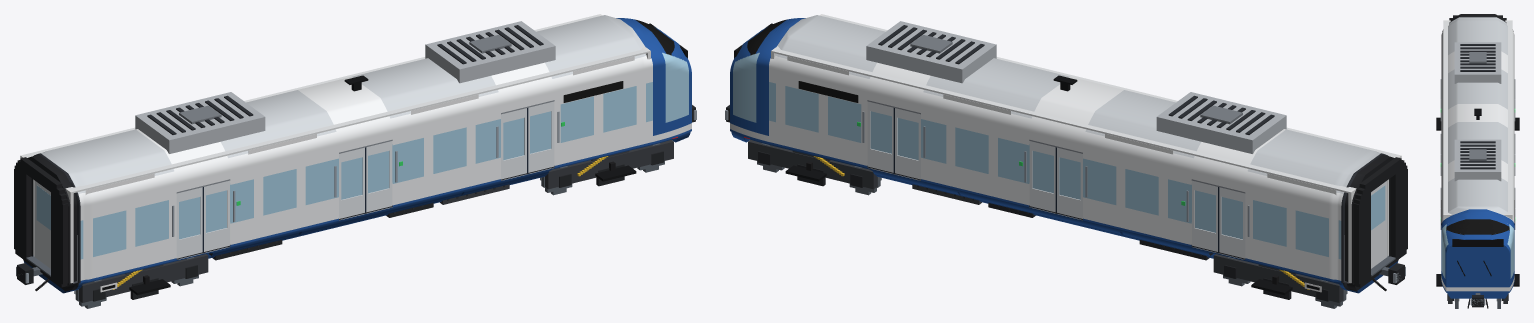
The model's file is azur_front.obj.
The picture shows the model from 3 angles, left to right: view 1: azimuth 30°, elevation 25°; view 2: azimuth 150°, elevation 25°; view 3: azimuth 270°, elevation 25°; orthographic projection. The views are drawn at different scales.
Visible parts, largest first — view 1: SHELL, SHELL_roof, SHELL_ceiling, SHELL_diaphragm, BOGEY_FRONT, BOGEY_REAR, EXTERNAL_DOOR_15_CG_DR3_TOGGLE_TL_-0.67_X, EXTERNAL_DOOR_3_CG_DR1_TOGGLE_TL_-0.67_X, EXTERNAL_DOOR_9_CG_DR2_TOGGLE_TL_-0.67_X, EXTERNAL_DOOR_16_CG_DR3_TOGGLE_TL_0.67_X, EXTERNAL_DOOR_10_CG_DR2_TOGGLE_TL_0.67_X, FRAME (+6 smaller); view 2: SHELL, SHELL_roof, SHELL_ceiling, SHELL_diaphragm, BOGEY_FRONT, BOGEY_REAR, EXTERNAL_DOOR_18_CG_DL3_TOGGLE_TL_-0.67_X, EXTERNAL_DOOR_6_CG_DL1_TOGGLE_TL_-0.67_X, EXTERNAL_DOOR_12_CG_DL2_TOGGLE_TL_-0.67_X, EXTERNAL_DOOR_19_CG_DL3_TOGGLE_TL_0.67_X, EXTERNAL_DOOR_13_CG_DL2_TOGGLE_TL_0.67_X, FRAME (+6 smaller); view 3: SHELL, SHELL_roof, SHELL_ceiling, SHELL_handle, SHELL_destbox, BOGEY_FRONT, FRAME, BOGEY_REAR, BOGEY_FRONT_WHEEL_2.
Boxes of the visible parts, x1,y1,x2,y2 form: SHELL: (23,15,691,293); SHELL_roof: (135,21,555,153); SHELL_ceiling: (23,14,647,193); SHELL_diaphragm: (14,157,68,287); BOGEY_FRONT: (545,139,673,189); BOGEY_REAR: (79,254,208,302); EXTERNAL_DOOR_15_CG_DR3_TOGGLE_TL_-0.67_X: (501,108,528,179); EXTERNAL_DOOR_3_CG_DR1_TOGGLE_TL_-0.67_X: (176,187,203,258); EXTERNAL_DOOR_9_CG_DR2_TOGGLE_TL_-0.67_X: (339,147,366,218); EXTERNAL_DOOR_16_CG_DR3_TOGGLE_TL_0.67_X: (528,101,554,172); EXTERNAL_DOOR_10_CG_DR2_TOGGLE_TL_0.67_X: (366,141,392,212); FRAME: (16,105,696,291); SHELL: (730,15,1398,293); SHELL_roof: (866,21,1286,153); SHELL_ceiling: (774,14,1398,192); SHELL_diaphragm: (1353,157,1407,287); BOGEY_FRONT: (748,139,876,189); BOGEY_REAR: (1213,254,1342,302); EXTERNAL_DOOR_18_CG_DL3_TOGGLE_TL_-0.67_X: (893,108,920,179); EXTERNAL_DOOR_6_CG_DL1_TOGGLE_TL_-0.67_X: (1218,187,1245,258); EXTERNAL_DOOR_12_CG_DL2_TOGGLE_TL_-0.67_X: (1055,147,1082,218); EXTERNAL_DOOR_19_CG_DL3_TOGGLE_TL_0.67_X: (867,101,893,172); EXTERNAL_DOOR_13_CG_DL2_TOGGLE_TL_0.67_X: (1029,141,1055,212); FRAME: (725,105,1405,291); SHELL: (1441,14,1514,298); SHELL_roof: (1454,42,1501,181); SHELL_ceiling: (1443,21,1512,213); SHELL_handle: (1440,79,1515,229); SHELL_destbox: (1452,239,1503,246); BOGEY_FRONT: (1436,274,1519,303); FRAME: (1467,293,1488,308); BOGEY_REAR: (1436,117,1519,130); BOGEY_FRONT_WHEEL_2: (1454,298,1501,308).
Bounding box in the file's own units: 18.14 × 3.91 × 2.84.
1 material, 1 textured.
